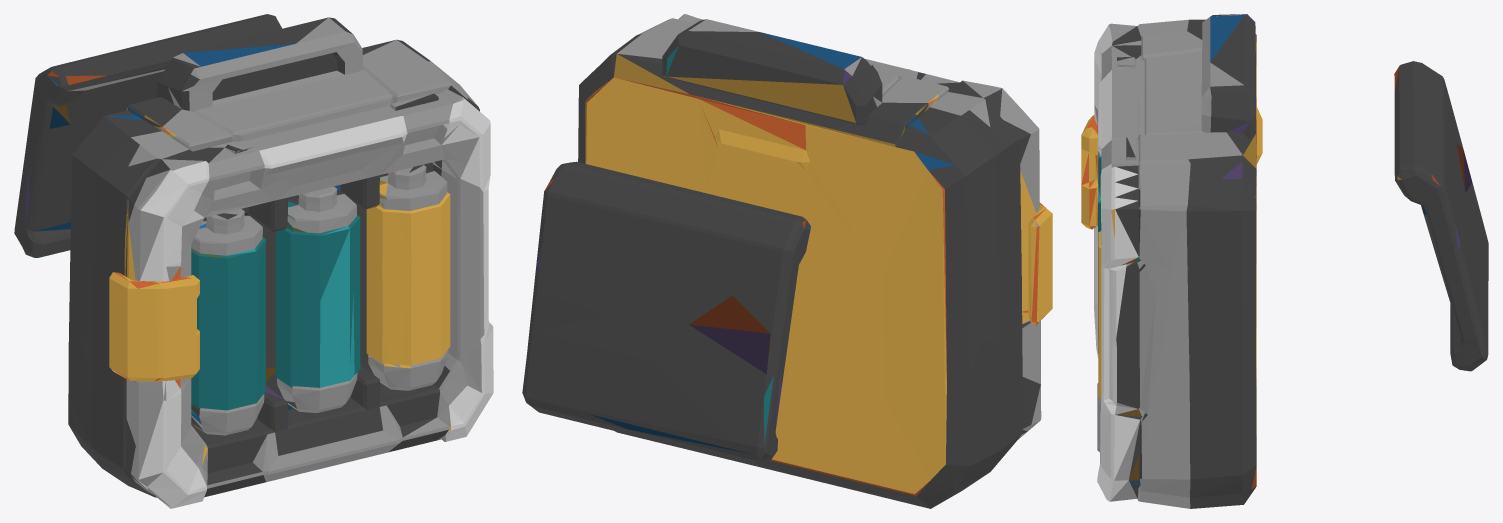
3 views of the same model, side by side, from view 1: azimuth 30°, elevation 25°; view 2: azimuth 150°, elevation 25°; view 3: azimuth 270°, elevation 25° (orthographic). The views are drawn at different scales.
Visible parts, largest first — view 1: node_0; view 2: node_0; view 3: node_0.
Boxes of the visible parts, left/top/right/bottom form: node_0: left=14, top=14, right=493, bottom=508; node_0: left=522, top=14, right=1052, bottom=508; node_0: left=1081, top=14, right=1488, bottom=508.
Size of the model in its own units: 1 by 0.991 by 0.9368.
